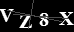8: (38, 12, 50, 27)
V: (1, 8, 14, 23)
X: (58, 11, 74, 26)
Z: (17, 14, 34, 29)
